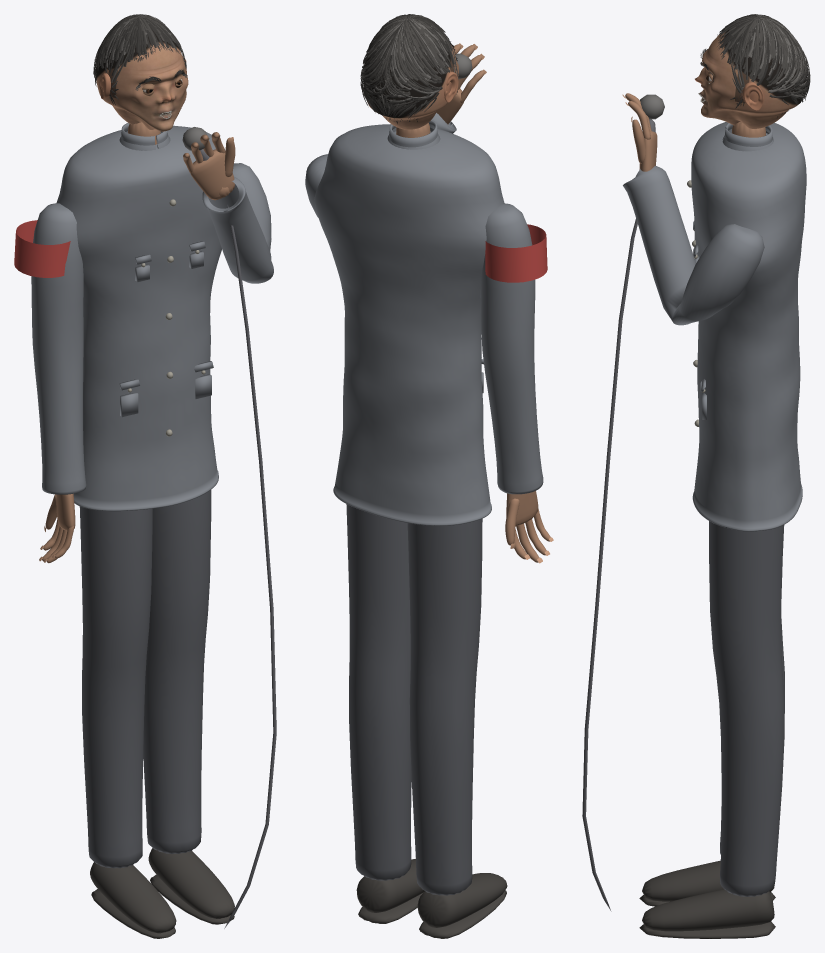
File: emcee_stage.glb
3 views of the same model, side by side, from view 1: azimuth 30°, elevation 25°; view 2: azimuth 150°, elevation 25°; view 3: azimuth 270°, elevation 25° (orthographic). The views are drawn at different scales.
Parts seen in each view (by area): view 1: Torso, LegL, LegR, SleeveL, Head, SleeveR, FootL, FootR, HairCards, MicCable, HandR, Armband (+3 smaller); view 2: Torso, LegL, LegR, SleeveL, HairCards, FootL, FootR, Armband, Head, HandL, HandR, SleeveR (+1 smaller); view 3: Torso, LegR, SleeveR, HairCards, FootR, Head, MicCable, FootL, HandR, Collar.
Boxes of the visible parts, x1,y1,x2,y2 form: Torso: (56, 125, 221, 511); LegL: (79, 506, 152, 868); LegR: (143, 490, 211, 854); SleeveL: (31, 203, 86, 494); Head: (96, 30, 188, 131); SleeveR: (202, 163, 273, 283); FootL: (90, 862, 176, 938); FootR: (148, 848, 234, 924); HairCards: (93, 14, 186, 105); MicCable: (224, 205, 276, 928); HandR: (183, 132, 235, 200); Armband: (14, 220, 70, 277); Torso: (314, 124, 504, 525); LegL: (407, 518, 482, 895); LegR: (346, 504, 411, 880); SleeveL: (480, 203, 543, 494); HairCards: (360, 14, 458, 123); FootL: (417, 873, 507, 938); FootR: (356, 858, 424, 923); Armband: (485, 224, 547, 282); Head: (363, 45, 458, 129); HandL: (505, 491, 550, 562); HandR: (436, 44, 484, 124); SleeveR: (305, 113, 456, 217); Torso: (691, 122, 806, 531); LegR: (709, 521, 784, 896); SleeveR: (623, 165, 764, 325); HairCards: (717, 14, 810, 117); FootR: (639, 889, 775, 938); Head: (695, 29, 807, 128); MicCable: (582, 218, 637, 911); FootL: (639, 860, 775, 906); HandR: (625, 93, 657, 171); Collar: (722, 123, 773, 151).
Bounding box in the file's own units: 0.4782 × 1.71 × 0.3912.
19 materials, 2 textured.
